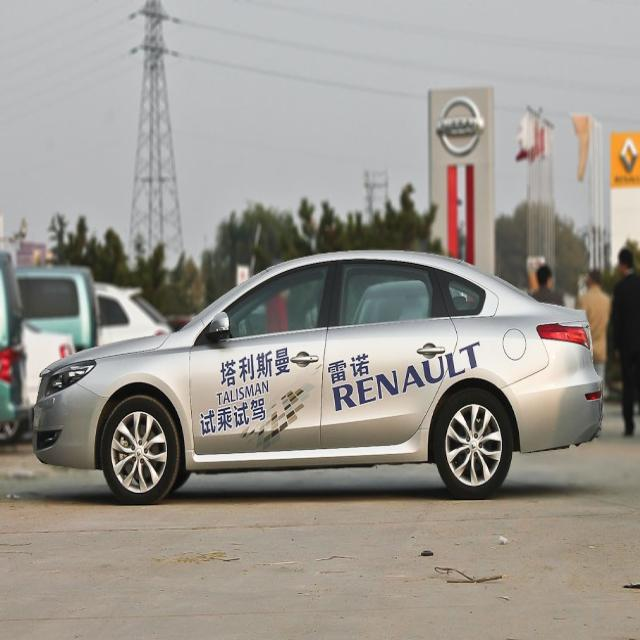back_left_side_light: (534, 318, 592, 350)
door: (327, 253, 457, 452)
front_bumper: (32, 378, 106, 472)
front_left_side_door: (186, 252, 332, 458)
front_left_side_light: (40, 358, 97, 403)
front_left_side_mirror: (204, 308, 232, 342)
rear_bumper: (503, 349, 604, 455)
wheel: (437, 386, 512, 497), (104, 399, 179, 501)
